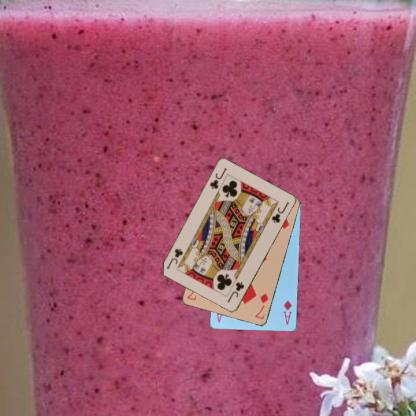7d: (252, 290, 270, 320)
Ad: (281, 297, 293, 326)
Jc: (208, 165, 228, 191), (224, 280, 245, 304)
